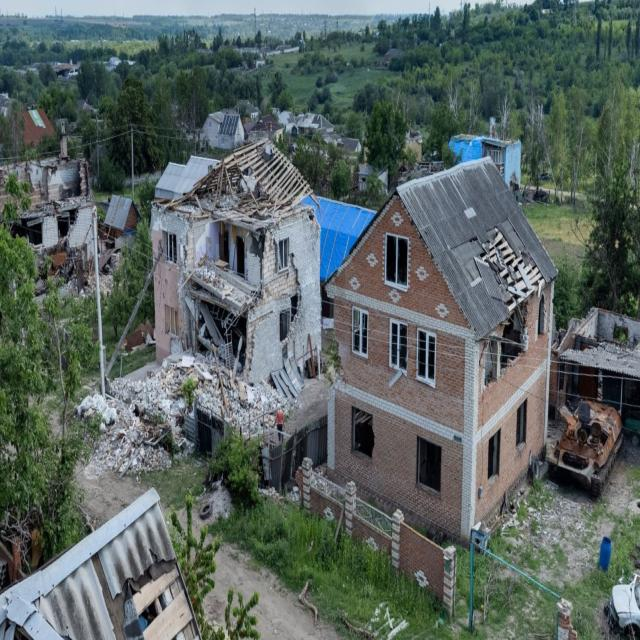broken_window: (383, 232, 409, 291), (416, 435, 441, 495), (416, 327, 436, 388), (352, 405, 374, 459), (389, 318, 407, 376), (352, 306, 368, 359), (487, 428, 500, 481), (515, 398, 527, 449), (274, 236, 288, 273), (164, 230, 177, 264)
building: (324, 154, 558, 553), (150, 136, 322, 396)
roof: (324, 154, 558, 342), (0, 485, 202, 639)
